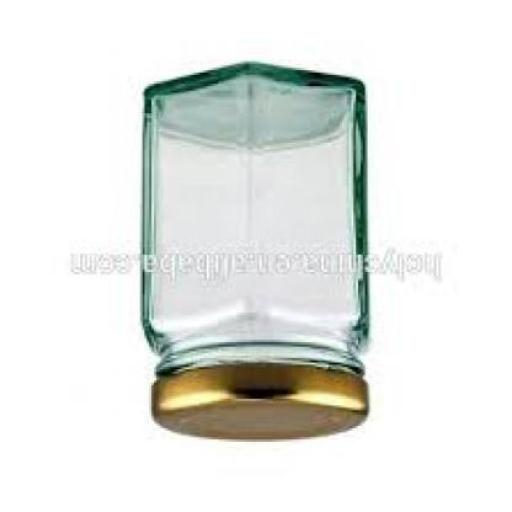glass: (144, 64, 370, 384)
metal: (156, 372, 370, 444)
